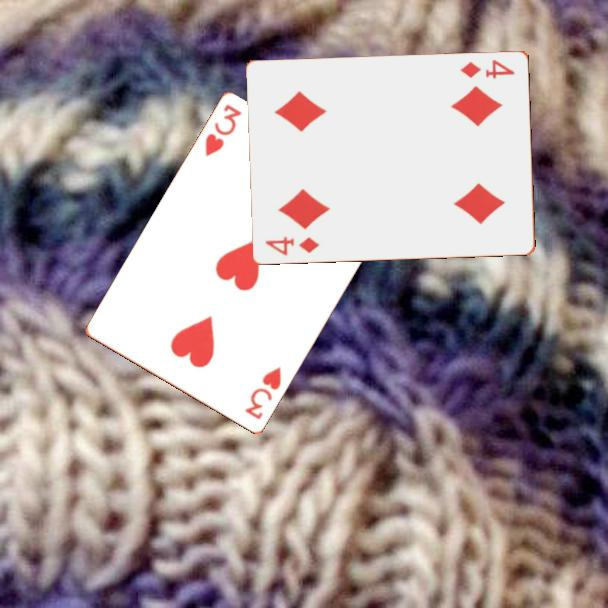d04: (262, 232, 322, 258), (457, 56, 518, 81)
h03: (201, 101, 245, 160), (241, 363, 284, 423)
